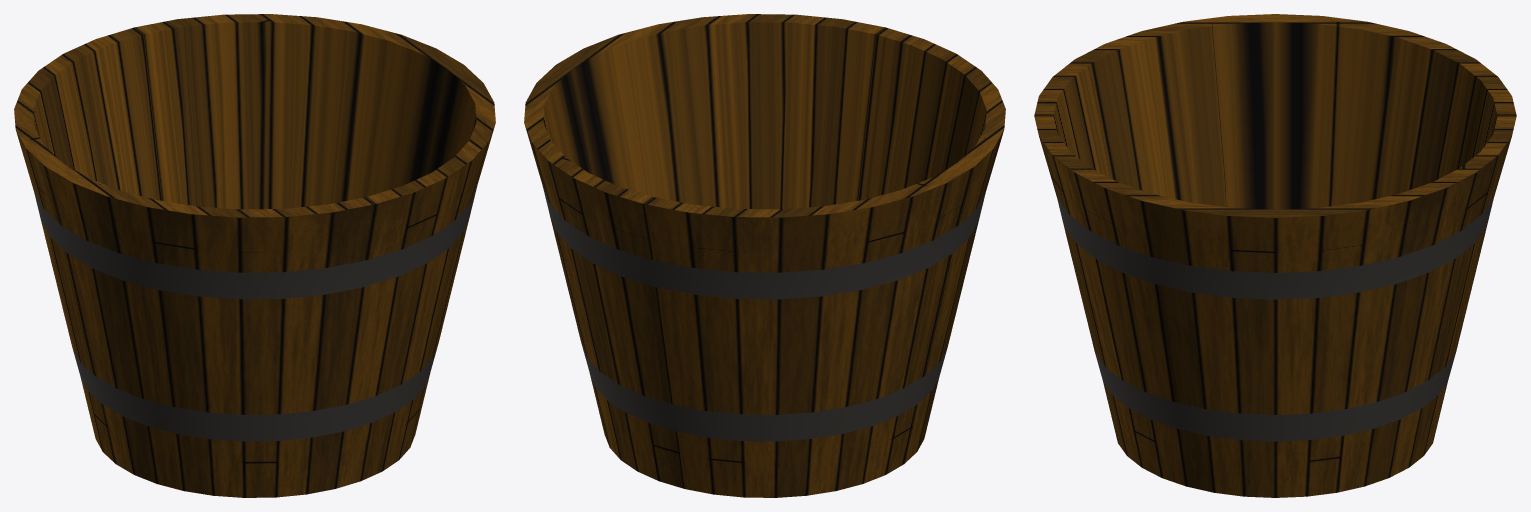
File: 8_WoodenWellBucket.fbx
3 views of the same model, side by side, from view 1: azimuth 30°, elevation 25°; view 2: azimuth 150°, elevation 25°; view 3: azimuth 270°, elevation 25° (orthographic).
Parts seen in each view (by area): view 1: Bucket; view 2: Bucket; view 3: Bucket.
Part boxes in pixels (x1=…): Bucket: x1=14, y1=14, x2=495, y2=497; Bucket: x1=524, y1=14, x2=1005, y2=497; Bucket: x1=1034, y1=14, x2=1516, y2=497.
Size of the model in its own units: 20.88 by 15 by 20.88.
Materials: 2 (1 with a texture image).
